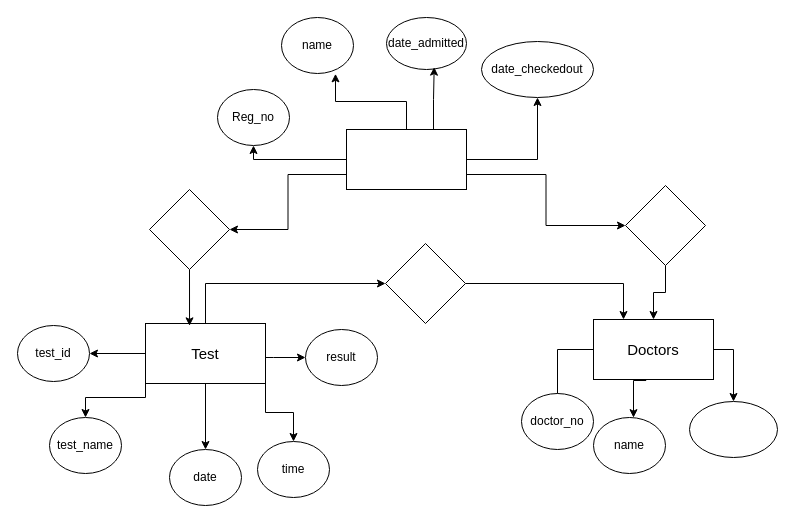
Some shapes in this 795 by 523 pixel diagram are drawn without their labels. Each missing label, with the centre of its shape:
"dr_patient" goes at (x=665, y=225).
"Patient" goes at (x=406, y=159).
"perform_by" goes at (x=425, y=283).
"specialization" goes at (x=733, y=429).
"Test_log" goes at (x=189, y=229).
